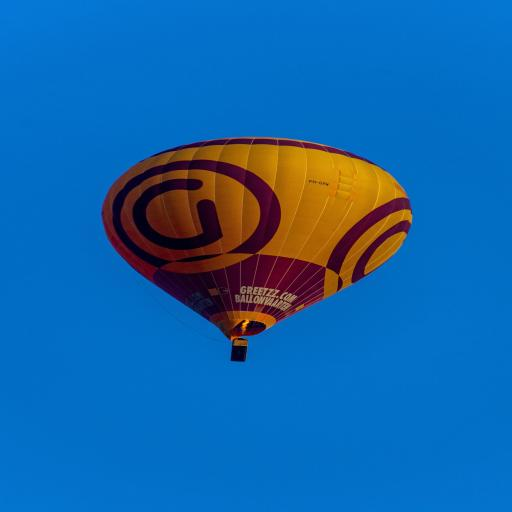hot air ballon: (101, 135, 415, 363)
